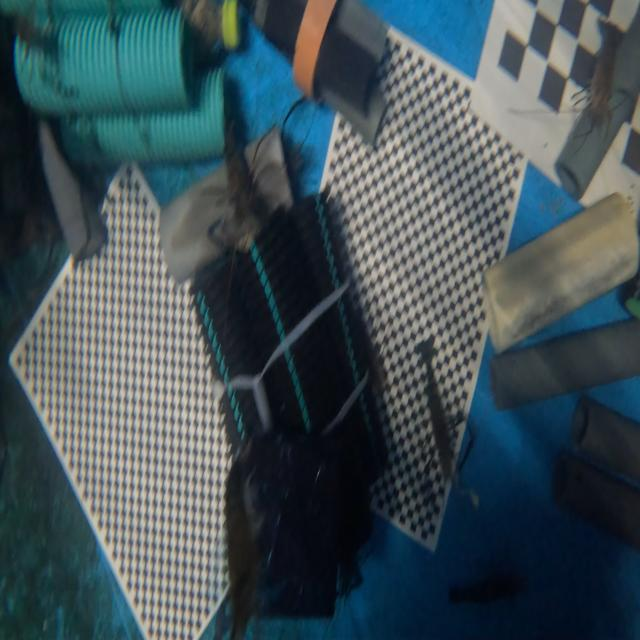prawn: (203, 147, 261, 260), (416, 338, 455, 483), (586, 28, 620, 120)
